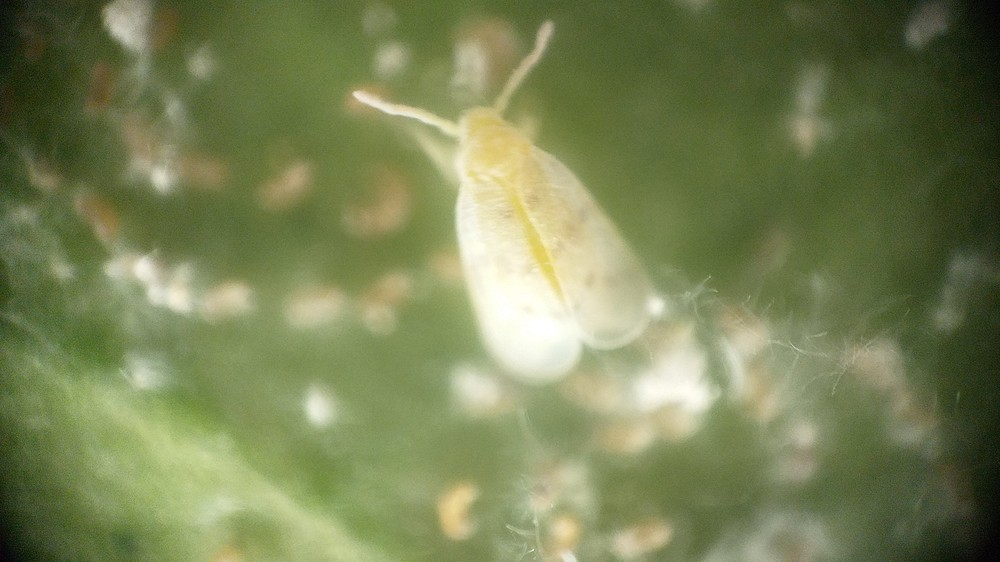Mosca Blanca: (329, 22, 677, 391)
